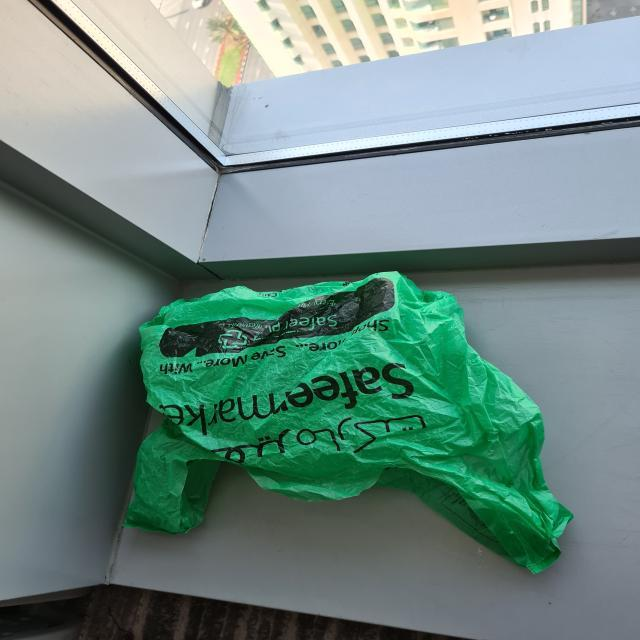plastic: (83, 265, 591, 609)
